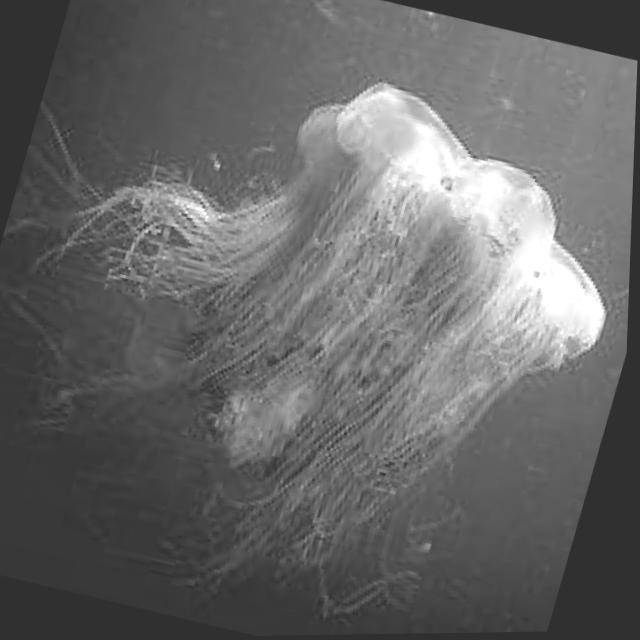Box-jellyfish: (0, 9, 640, 640)
